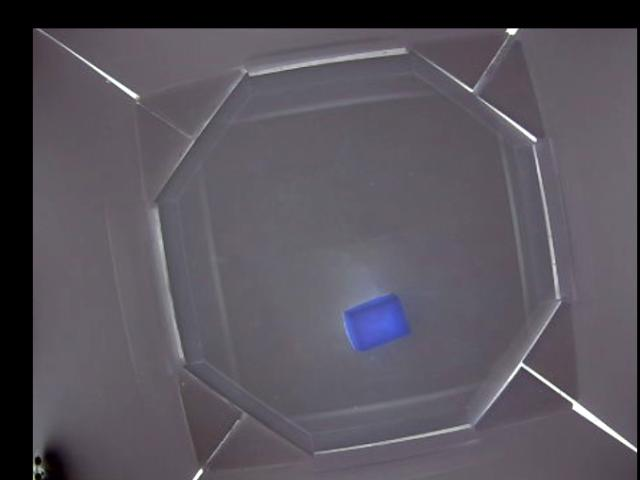Potato: (345, 293, 411, 349)
